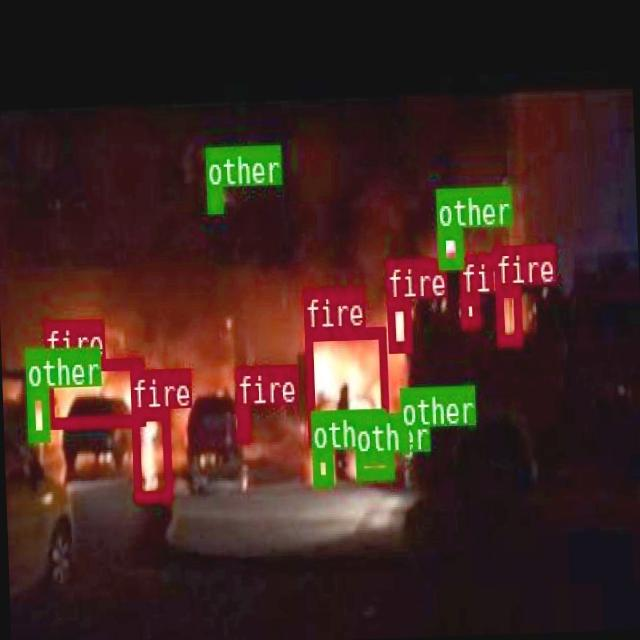fire: (303, 324, 387, 444), (43, 356, 144, 425), (130, 408, 170, 498), (494, 284, 521, 345), (385, 298, 410, 352), (459, 291, 478, 326), (235, 404, 248, 439)
